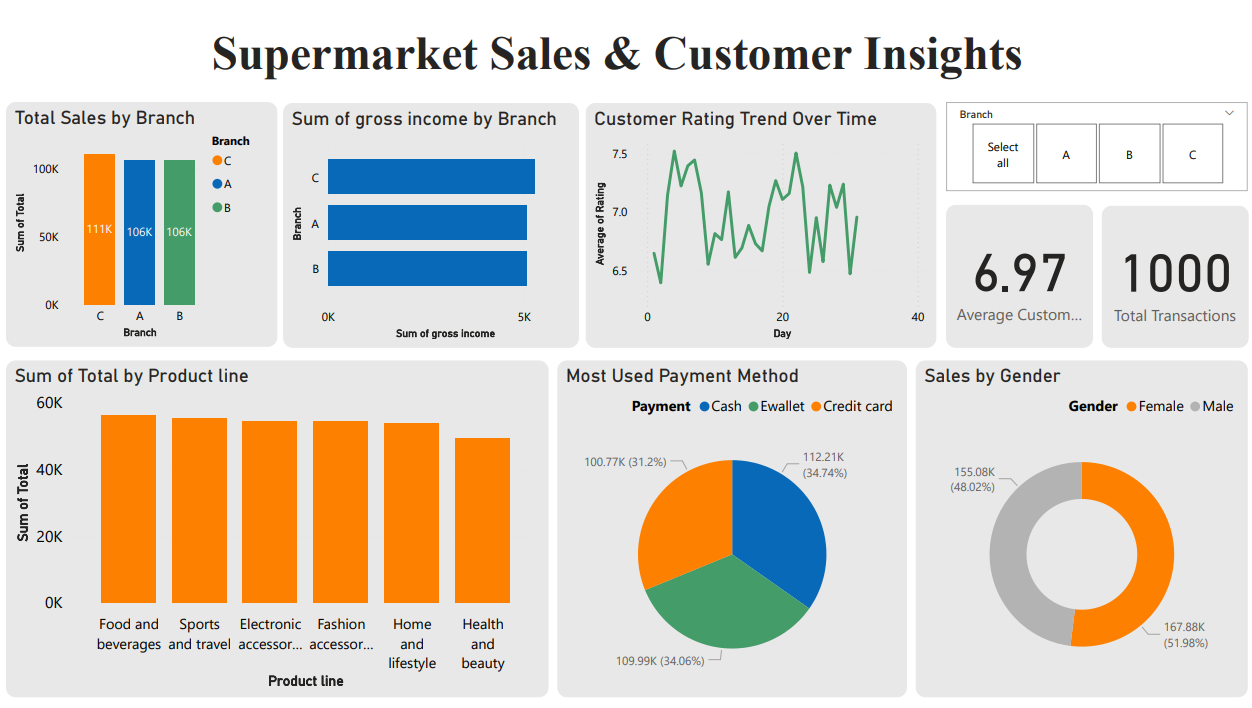

What the dashboard file says about the page in this screenshot:
{"tool":"powerbi","page":{"name":"Page 1","canvas":[1280,720],"ordinal":0},"visuals":[{"type":"columnChart","title":"Total Sales by Branch","fields":{"Category":["supermarket_sales_cleaned.Branch"],"Y":["Sum(supermarket_sales_cleaned.Total)"],"Series":["supermarket_sales_cleaned.Branch"]},"box":[5.7,95.7,277.1,250],"z":0},{"type":"columnChart","fields":{"Category":["supermarket_sales_cleaned.Product line"],"Y":["Sum(supermarket_sales_cleaned.Total)"]},"box":[6,360,554,344],"z":1000},{"type":"pieChart","title":"Most Used Payment Method","fields":{"Category":["supermarket_sales_cleaned.Payment"],"Y":["Sum(supermarket_sales_cleaned.Total)"]},"box":[568.6,360,357.1,344.3],"z":2000},{"type":"donutChart","title":"Sales by Gender","fields":{"Y":["Sum(supermarket_sales_cleaned.Total)"],"Category":["supermarket_sales_cleaned.Gender"]},"box":[935,360,339.3,344.3],"z":3000},{"type":"slicer","fields":{"Values":["supermarket_sales_cleaned.Branch"]},"box":[965.7,95.7,308.6,91.4],"z":4000},{"type":"barChart","fields":{"Category":["supermarket_sales_cleaned.Branch"],"Y":["Sum(supermarket_sales_cleaned.gross income)"]},"box":[288.6,97.1,302.9,250],"z":5000},{"type":"card","fields":{"Values":["CountNonNull(supermarket_sales_cleaned.Invoice ID)"]},"box":[1124.5,201.8,150,145.5],"z":6000},{"type":"card","fields":{"Values":["Avg(supermarket_sales_cleaned.Rating)"]},"box":[965.7,201.4,150,145.7],"z":7000},{"type":"lineChart","title":"Customer Rating Trend Over Time","fields":{"Category":["supermarket_sales_cleaned.Date.Variation.Date Hierarchy.Day"],"Y":["Avg(supermarket_sales_cleaned.Rating)"]},"box":[598.2,97.3,358.2,250],"z":8000},{"type":"textbox","box":[211.4,12.9,855.7,70],"z":9000}]}

Visuals, with their boxes in screenshot pixels (x1, y1, x2, y2), scaled from the page's 1280x720 canvas onto the 1252x708 screenshot:
"Total Sales by Branch" columnChart: 6 94 277 340
columnChart - supermarket_sales_cleaned.Product line x Sum(supermarket_sales_cleaned.Total): 6 354 548 692
"Most Used Payment Method" pieChart: 556 354 905 693
"Sales by Gender" donutChart: 915 354 1246 693
slicer - supermarket_sales_cleaned.Branch: 945 94 1246 184
barChart - supermarket_sales_cleaned.Branch x Sum(supermarket_sales_cleaned.gross income): 282 95 579 341
card - CountNonNull(supermarket_sales_cleaned.Invoice ID): 1100 198 1247 342
card - Avg(supermarket_sales_cleaned.Rating): 945 198 1091 341
"Customer Rating Trend Over Time" lineChart: 585 96 935 342
textbox: 207 13 1044 82
